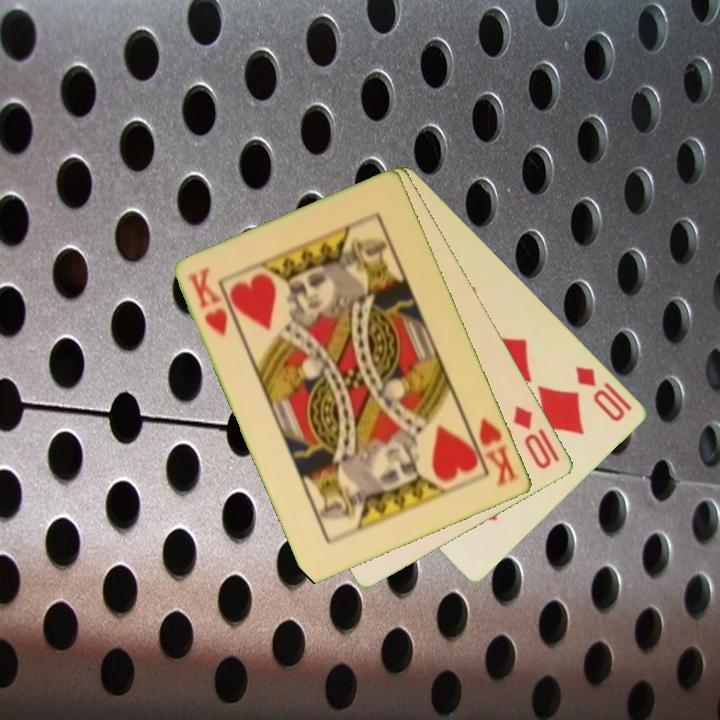10d: (572, 362, 629, 425), (510, 402, 555, 472)
Kh: (464, 415, 523, 489), (184, 264, 232, 339)
